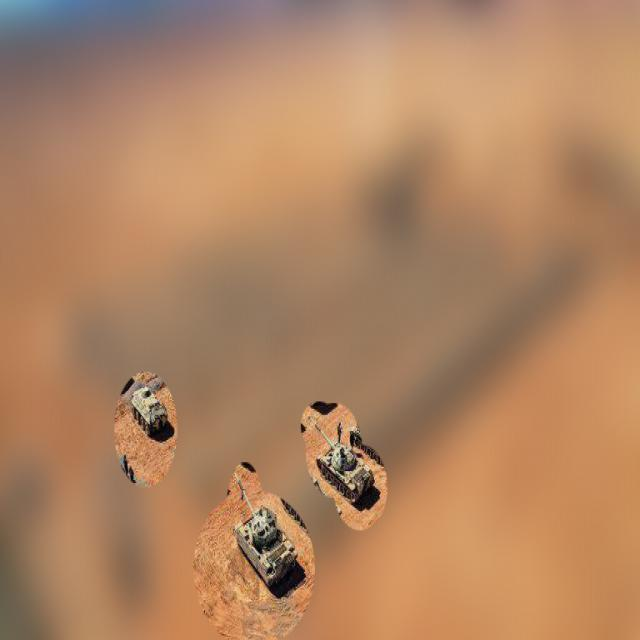tank: (228, 463, 301, 593), (314, 415, 378, 509), (128, 379, 170, 439)
